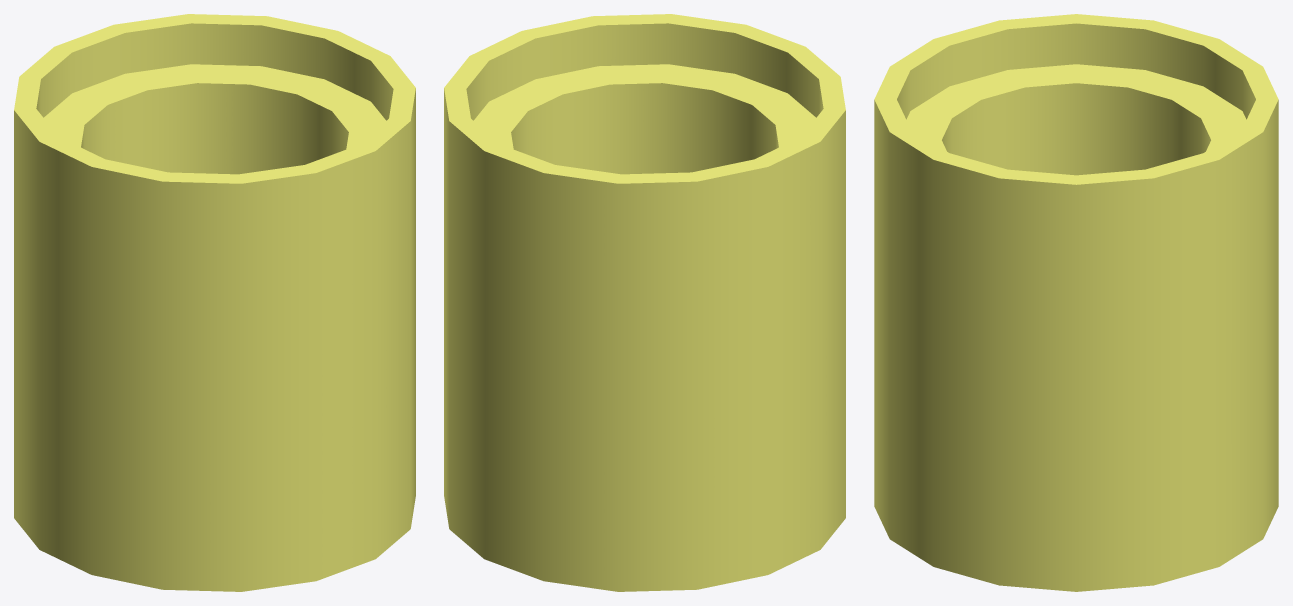
The picture shows the model from 3 angles, left to right: view 1: azimuth 30°, elevation 25°; view 2: azimuth 150°, elevation 25°; view 3: azimuth 270°, elevation 25°; orthographic projection.
Parts seen in each view (by area): view 1: 18654.dat; view 2: 18654.dat; view 3: 18654.dat.
Boxes of the visible parts, <box> form: 18654.dat: <box>14,14,415,591</box>; 18654.dat: <box>444,14,845,591</box>; 18654.dat: <box>874,14,1278,591</box>.
Size of the model in its own units: 0.0072 by 0.008 by 0.0072.
